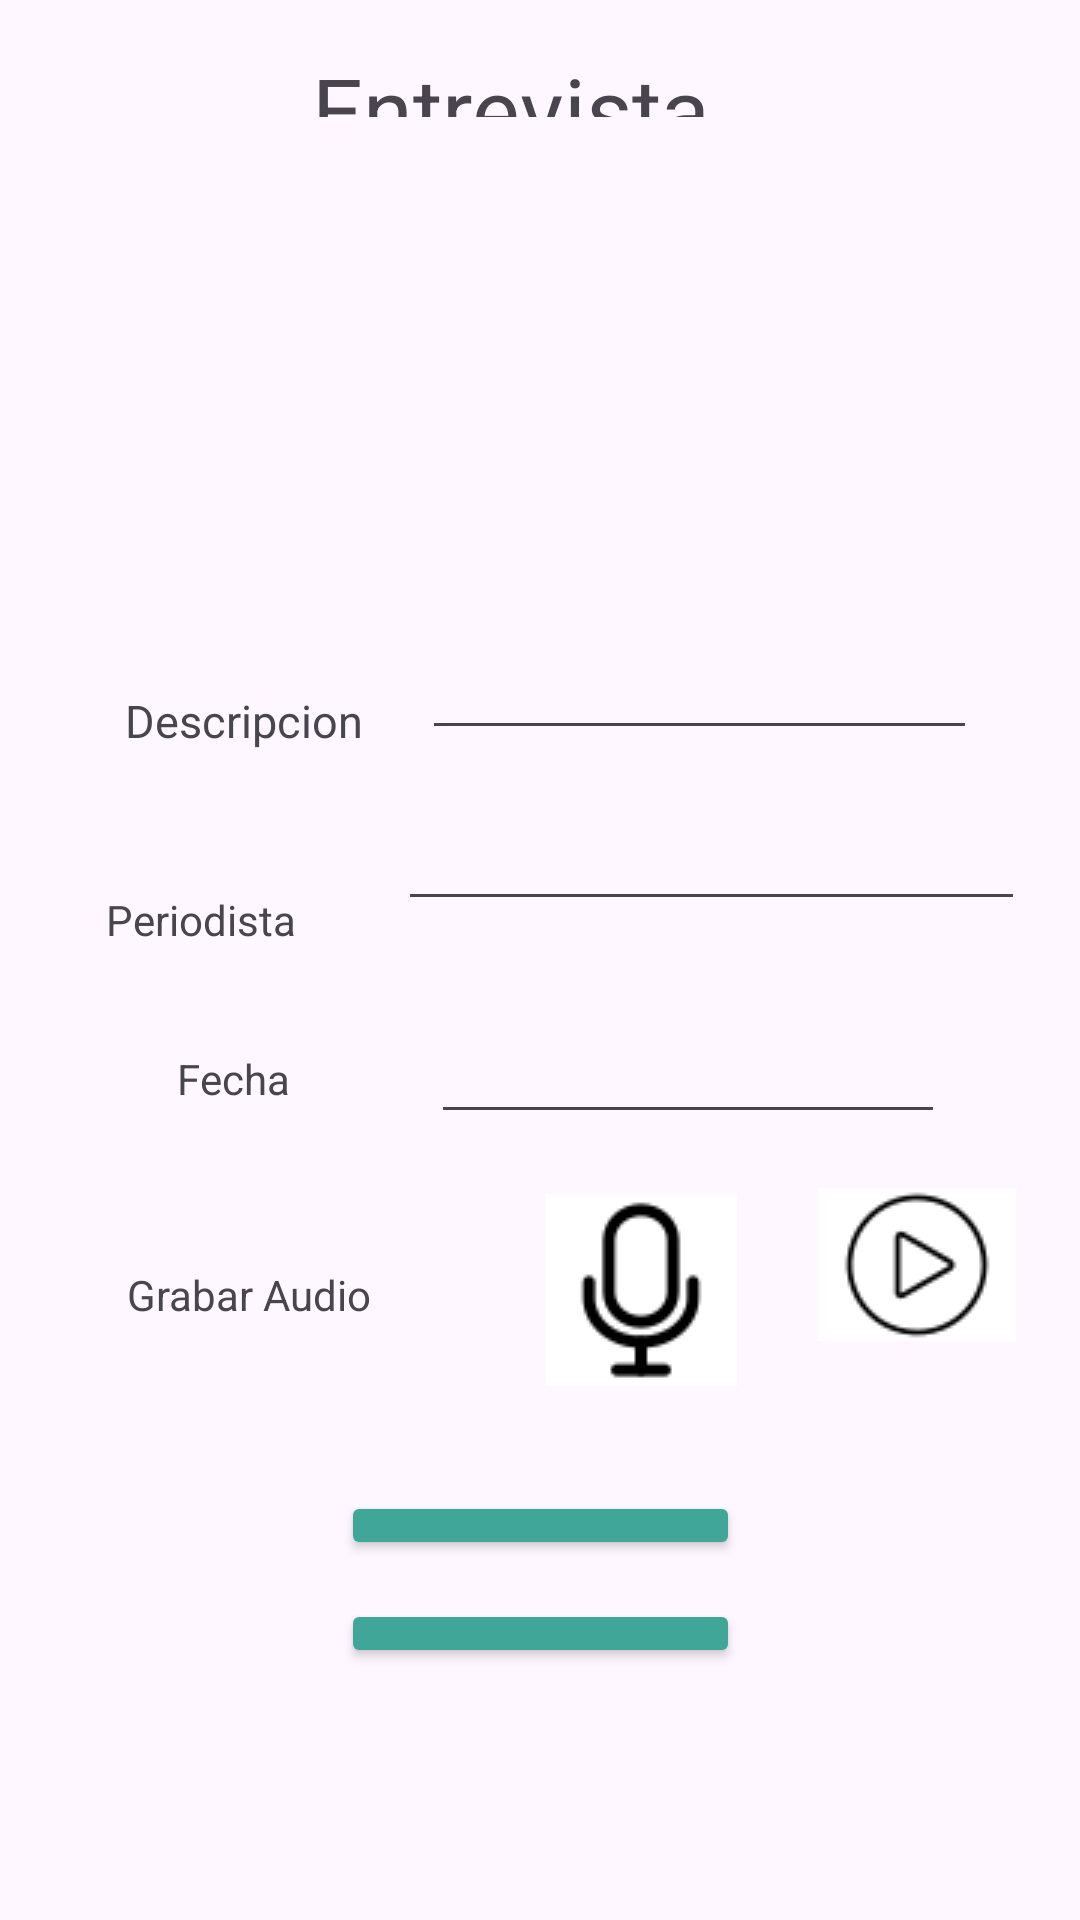

Point at icon controls on the screen. Image size 1080w x 1920h, points as [x,y].
grabar: [641,1290]
reproducir: [917,1265]
